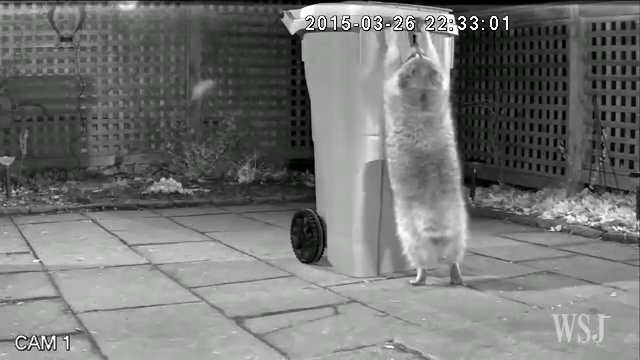raccoon: (383, 37, 475, 289)
